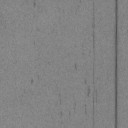surface scratch: (114, 0, 118, 128), (92, 2, 94, 128)
